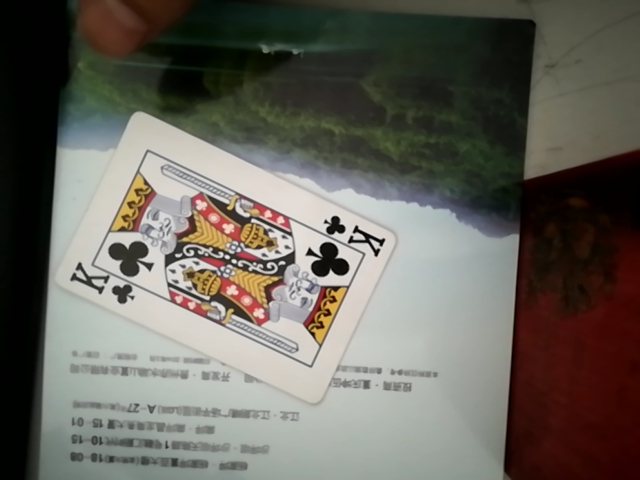mh k: (55, 107, 401, 406)
